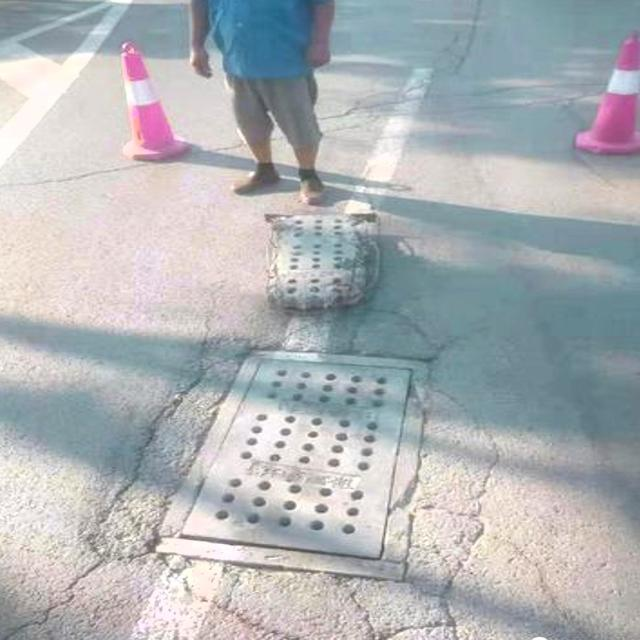circle: (77, 322, 514, 640)
